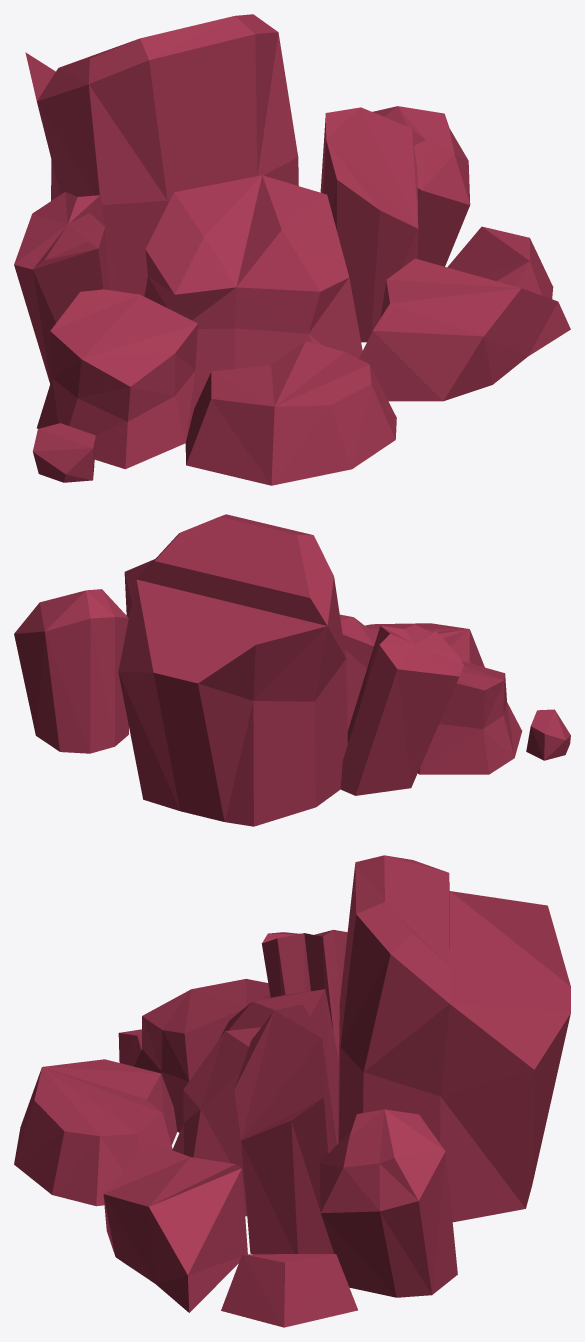
The model's file is _crystal_3.fbx.
3 views of the same model, one above another, from view 1: azimuth 30°, elevation 25°; view 2: azimuth 150°, elevation 25°; view 3: azimuth 270°, elevation 25° (orthographic). The views are drawn at different scales.
Parts seen in each view (by area): view 1: crystal_3; view 2: crystal_3; view 3: crystal_3.
Boxes of the visible parts, <box> form: crystal_3: <box>14,14,570,485</box>; crystal_3: <box>14,514,570,826</box>; crystal_3: <box>14,855,570,1327</box>.
Bounding box in the file's own units: 160 × 79.12 × 134.
